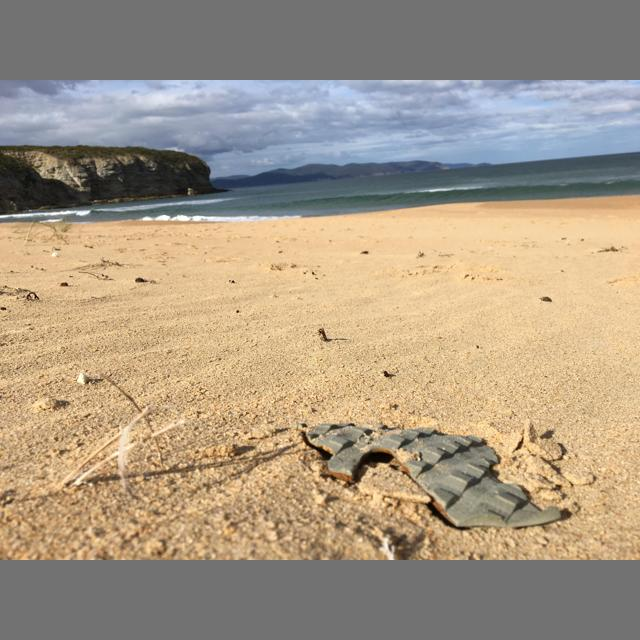litter: (292, 423, 562, 527)
